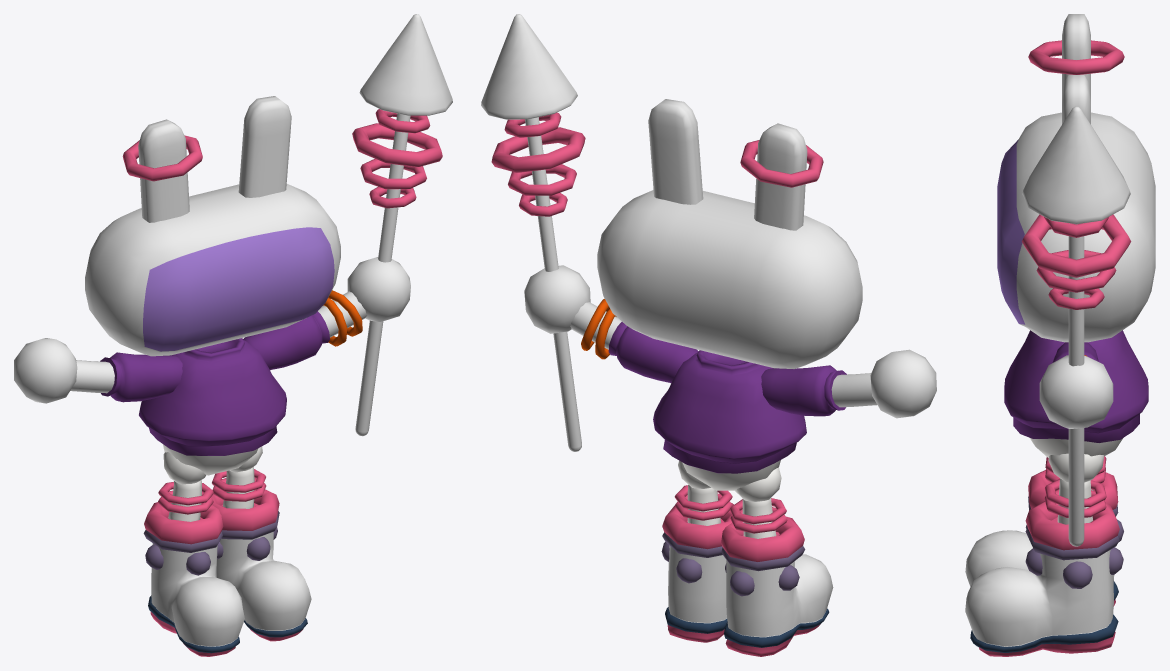
The model's file is Bunny_TPoseWAttachments.fbx.
The picture shows the model from 3 angles, left to right: view 1: azimuth 30°, elevation 25°; view 2: azimuth 150°, elevation 25°; view 3: azimuth 270°, elevation 25°; orthographic projection. The views are drawn at different scales.
Visible parts, largest first — view 1: Head, Body_Sweater, Body_BootR, Body_BootR.001, Weapon_Shaft, Ear_L, Ear_R, Body_HandR, Body_SleeveR, Body_HandL, Body_SleeveL, Ring_Weapon2 (+12 smaller); view 2: Head, Body_Sweater, Body_BootR, Weapon_Shaft, Body_BootR.001, Ear_L, Ear_R, Body_HandR, Body_SleeveR, Body_HandL, Body_SleeveL, Ring_Weapon2 (+12 smaller); view 3: Head, Body_BootR.001, Weapon_Shaft, Body_Sweater, Body_HandL, Body_BootR, Ring_Weapon2, Ring_Ear, Ear_R, Ring_LegR.001, Ring_Weapon3, Ear_L (+7 smaller).
Part boxes in pixels (box(x1,y1,x2,y2)): Head: box(85, 184, 340, 356); Body_Sweater: box(139, 338, 286, 455); Body_BootR: box(143, 502, 244, 656); Body_BootR.001: box(211, 489, 311, 641); Weapon_Shaft: box(355, 14, 452, 436); Ear_L: box(238, 96, 291, 197); Ear_R: box(138, 119, 189, 222); Body_HandR: box(14, 338, 77, 403); Body_SleeveR: box(100, 352, 182, 402); Body_HandL: box(347, 257, 410, 321); Body_SleeveL: box(243, 311, 329, 370); Ring_Weapon2: box(352, 123, 442, 166); Head: box(597, 190, 862, 368); Body_Sweater: box(653, 350, 806, 473); Body_BootR: box(721, 516, 833, 656); Weapon_Shaft: box(481, 14, 581, 451); Body_BootR.001: box(661, 503, 733, 642); Ear_L: box(648, 99, 703, 204); Ear_R: box(754, 123, 807, 230); Body_HandR: box(870, 349, 936, 418); Body_SleeveR: box(761, 365, 846, 416); Body_HandL: box(524, 265, 590, 333); Body_SleeveL: box(608, 322, 698, 382); Ring_Weapon2: box(491, 127, 585, 172); Head: box(997, 112, 1155, 342); Body_BootR.001: box(965, 501, 1123, 656); Weapon_Shaft: box(1022, 106, 1130, 546); Body_Sweater: box(1004, 330, 1148, 442); Body_HandL: box(1039, 355, 1113, 428); Body_BootR: box(965, 470, 1123, 606); Ring_Weapon2: box(1022, 214, 1131, 277); Ring_Ear: box(1028, 40, 1124, 74); Ear_R: box(1062, 14, 1090, 93); Ring_LegR.001: box(1044, 479, 1106, 517); Ring_Weapon3: box(1036, 250, 1116, 292); Ear_L: box(1062, 75, 1090, 124).
Bounding box in the file's own units: 91.76 × 113 × 30.72.
